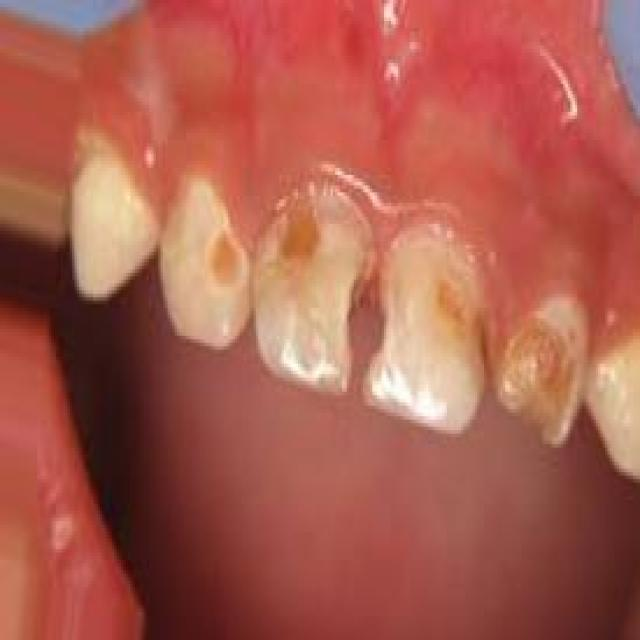caries: (371, 222, 485, 430), (252, 179, 362, 392), (498, 289, 594, 451), (190, 200, 251, 304)
